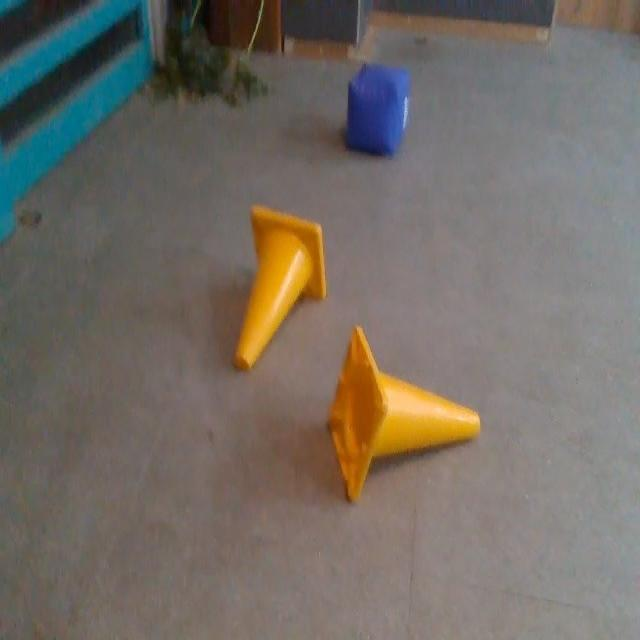cone: (326, 322, 484, 508), (234, 210, 330, 380)
cube: (344, 64, 410, 161)
